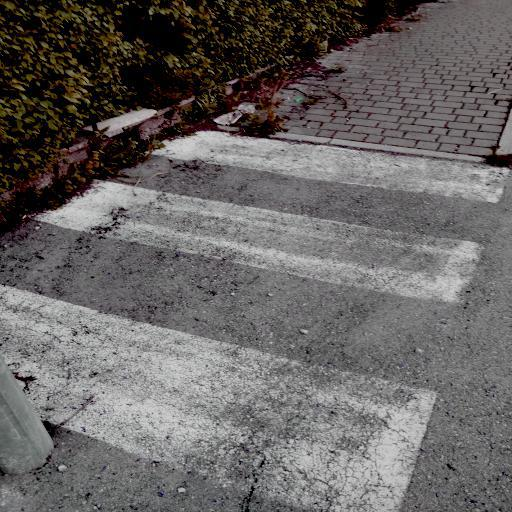crosswalk: (12, 124, 510, 308)
